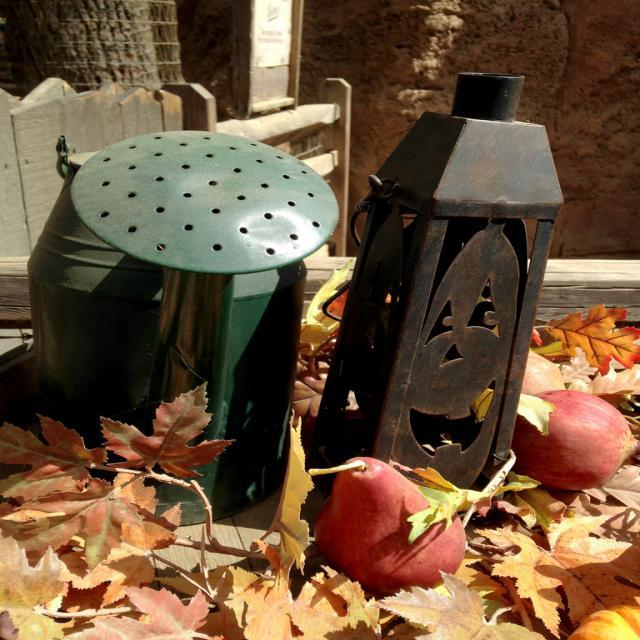Pear: (311, 458, 467, 594), (503, 392, 628, 492), (521, 346, 565, 403)
